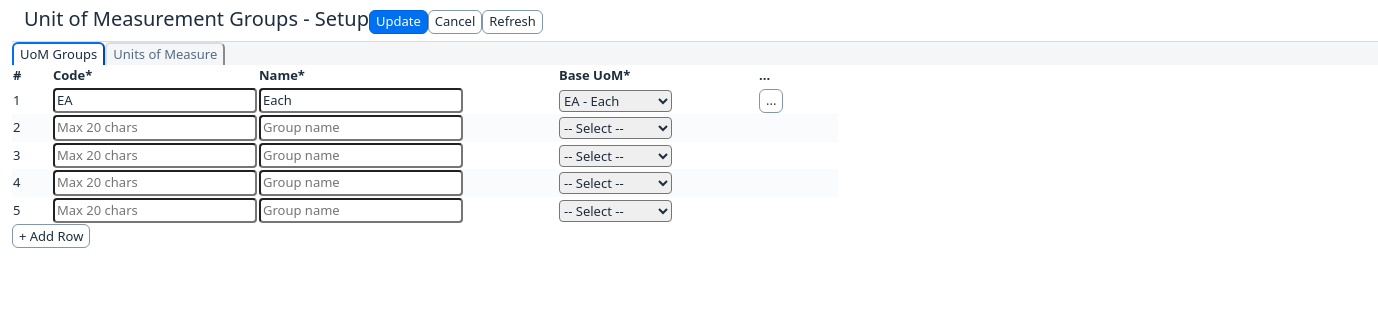
Test: validates every entered group before any writes
Expected: the field showing "Each" is shown, top-left (259, 88), bottom-right (463, 113)
Type "KGS" into the field named "Group code 2". click: point(155, 128)
box: top-left (53, 115), bottom-right (257, 141)
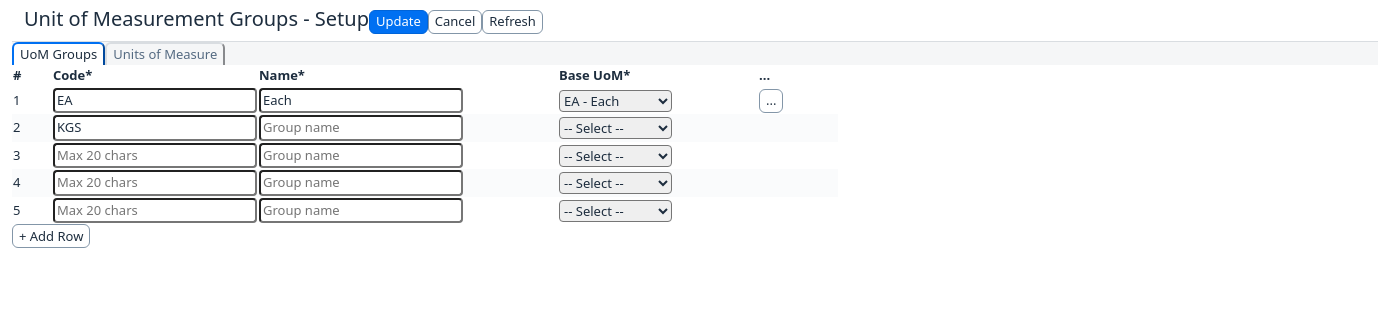
Click the button "Update". click: point(398, 22)
box: top-left (369, 10), bottom-right (428, 34)
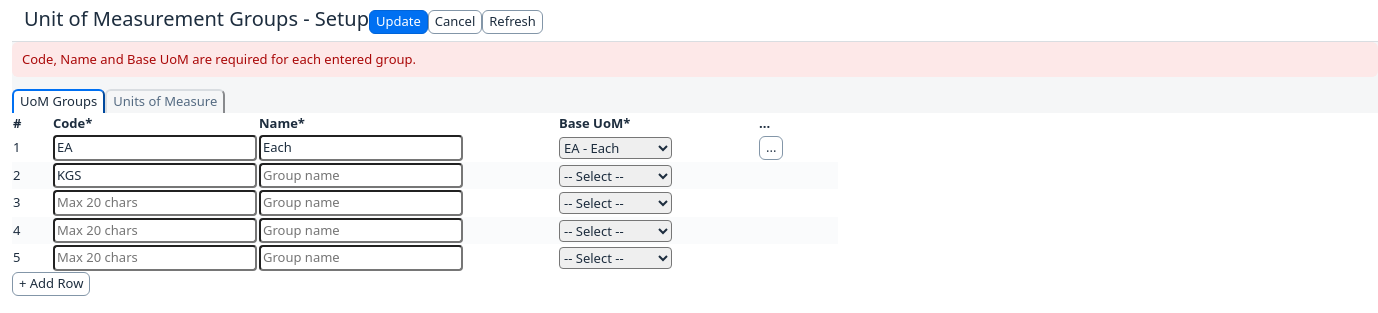
Result: the message shows "required" at top-left (22, 50), bottom-right (416, 68)
